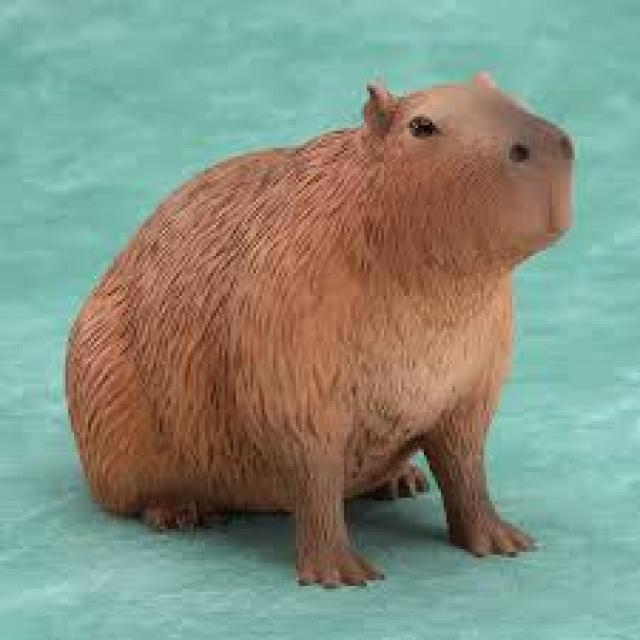capy: (61, 71, 575, 594)
